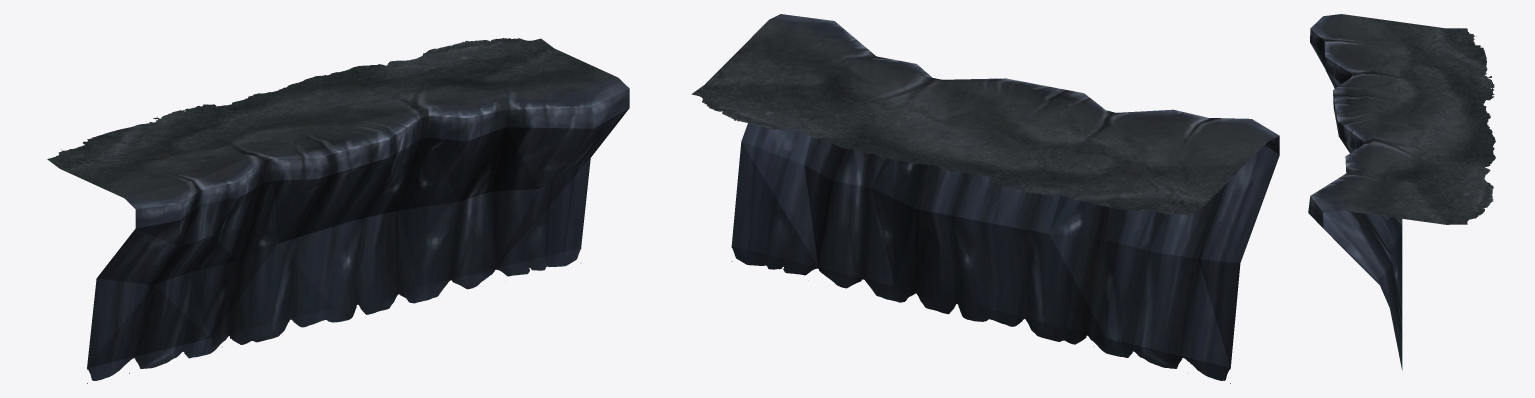
The model's file is mine_trim_straight_01.fbx.
3 renders of one model, left to right at view 1: azimuth 30°, elevation 25°; view 2: azimuth 150°, elevation 25°; view 3: azimuth 270°, elevation 25°, orthographic. The views are drawn at different scales.
Parts seen in each view (by area): view 1: obj0.011; view 2: obj0.011; view 3: obj0.011.
Boxes of the visible parts, x1,y1,x2,y2 form: obj0.011: [47, 38, 629, 383]; obj0.011: [691, 14, 1279, 383]; obj0.011: [1308, 14, 1495, 370].
Size of the model in its own units: 4 by 1.65 by 1.83.
